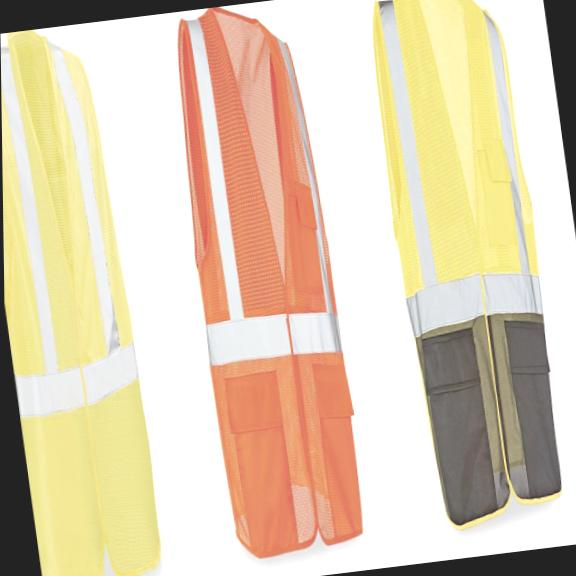safety_vest: (164, 0, 374, 556), (365, 0, 572, 529), (0, 22, 170, 576)
